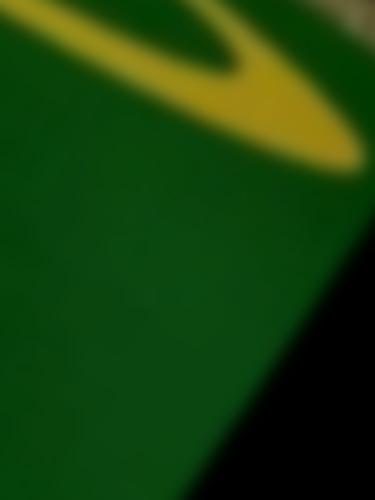Apron: (1, 1, 371, 187)
